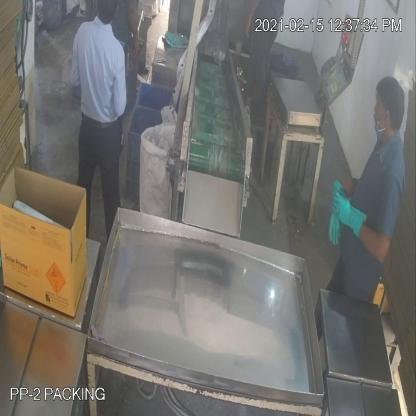glove: (332, 186, 374, 241)
no_glove: (128, 2, 145, 65), (244, 1, 260, 48)
